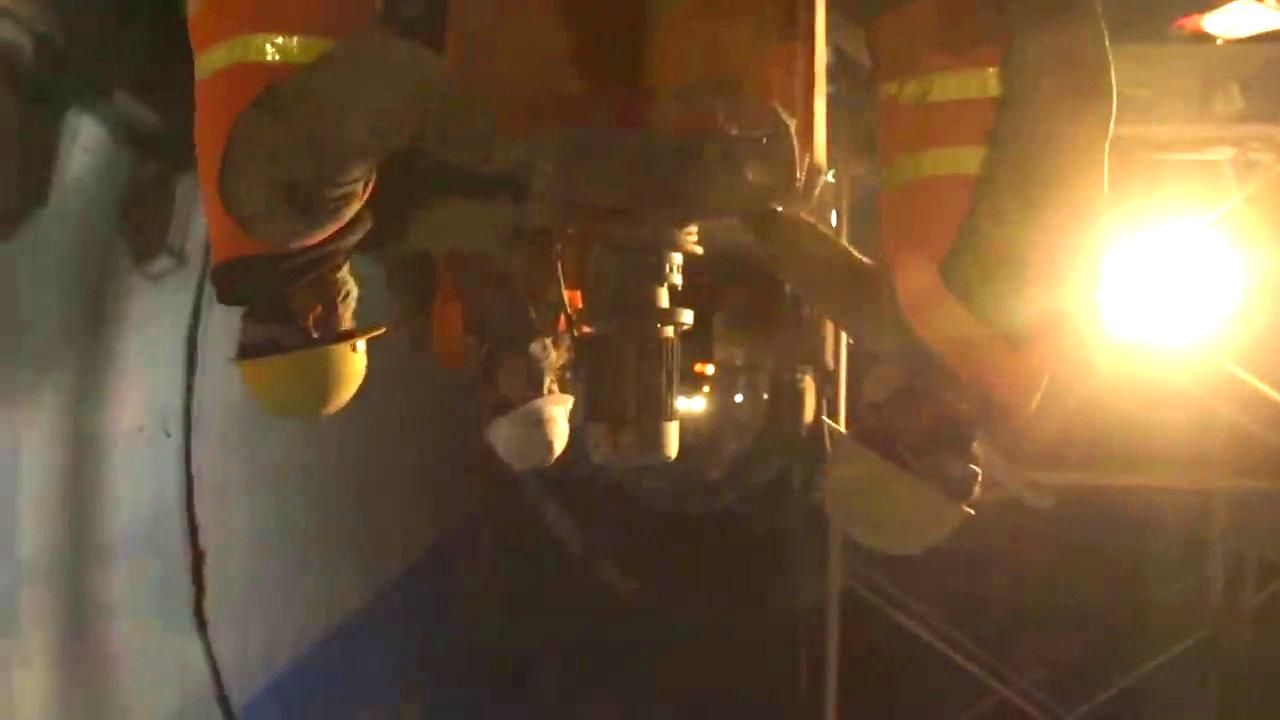helmet: (819, 381, 983, 557), (228, 267, 386, 425), (482, 352, 575, 473)
